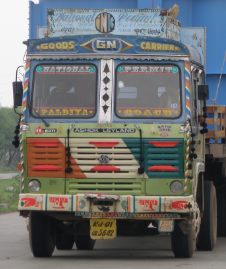truck: (13, 2, 218, 261)
